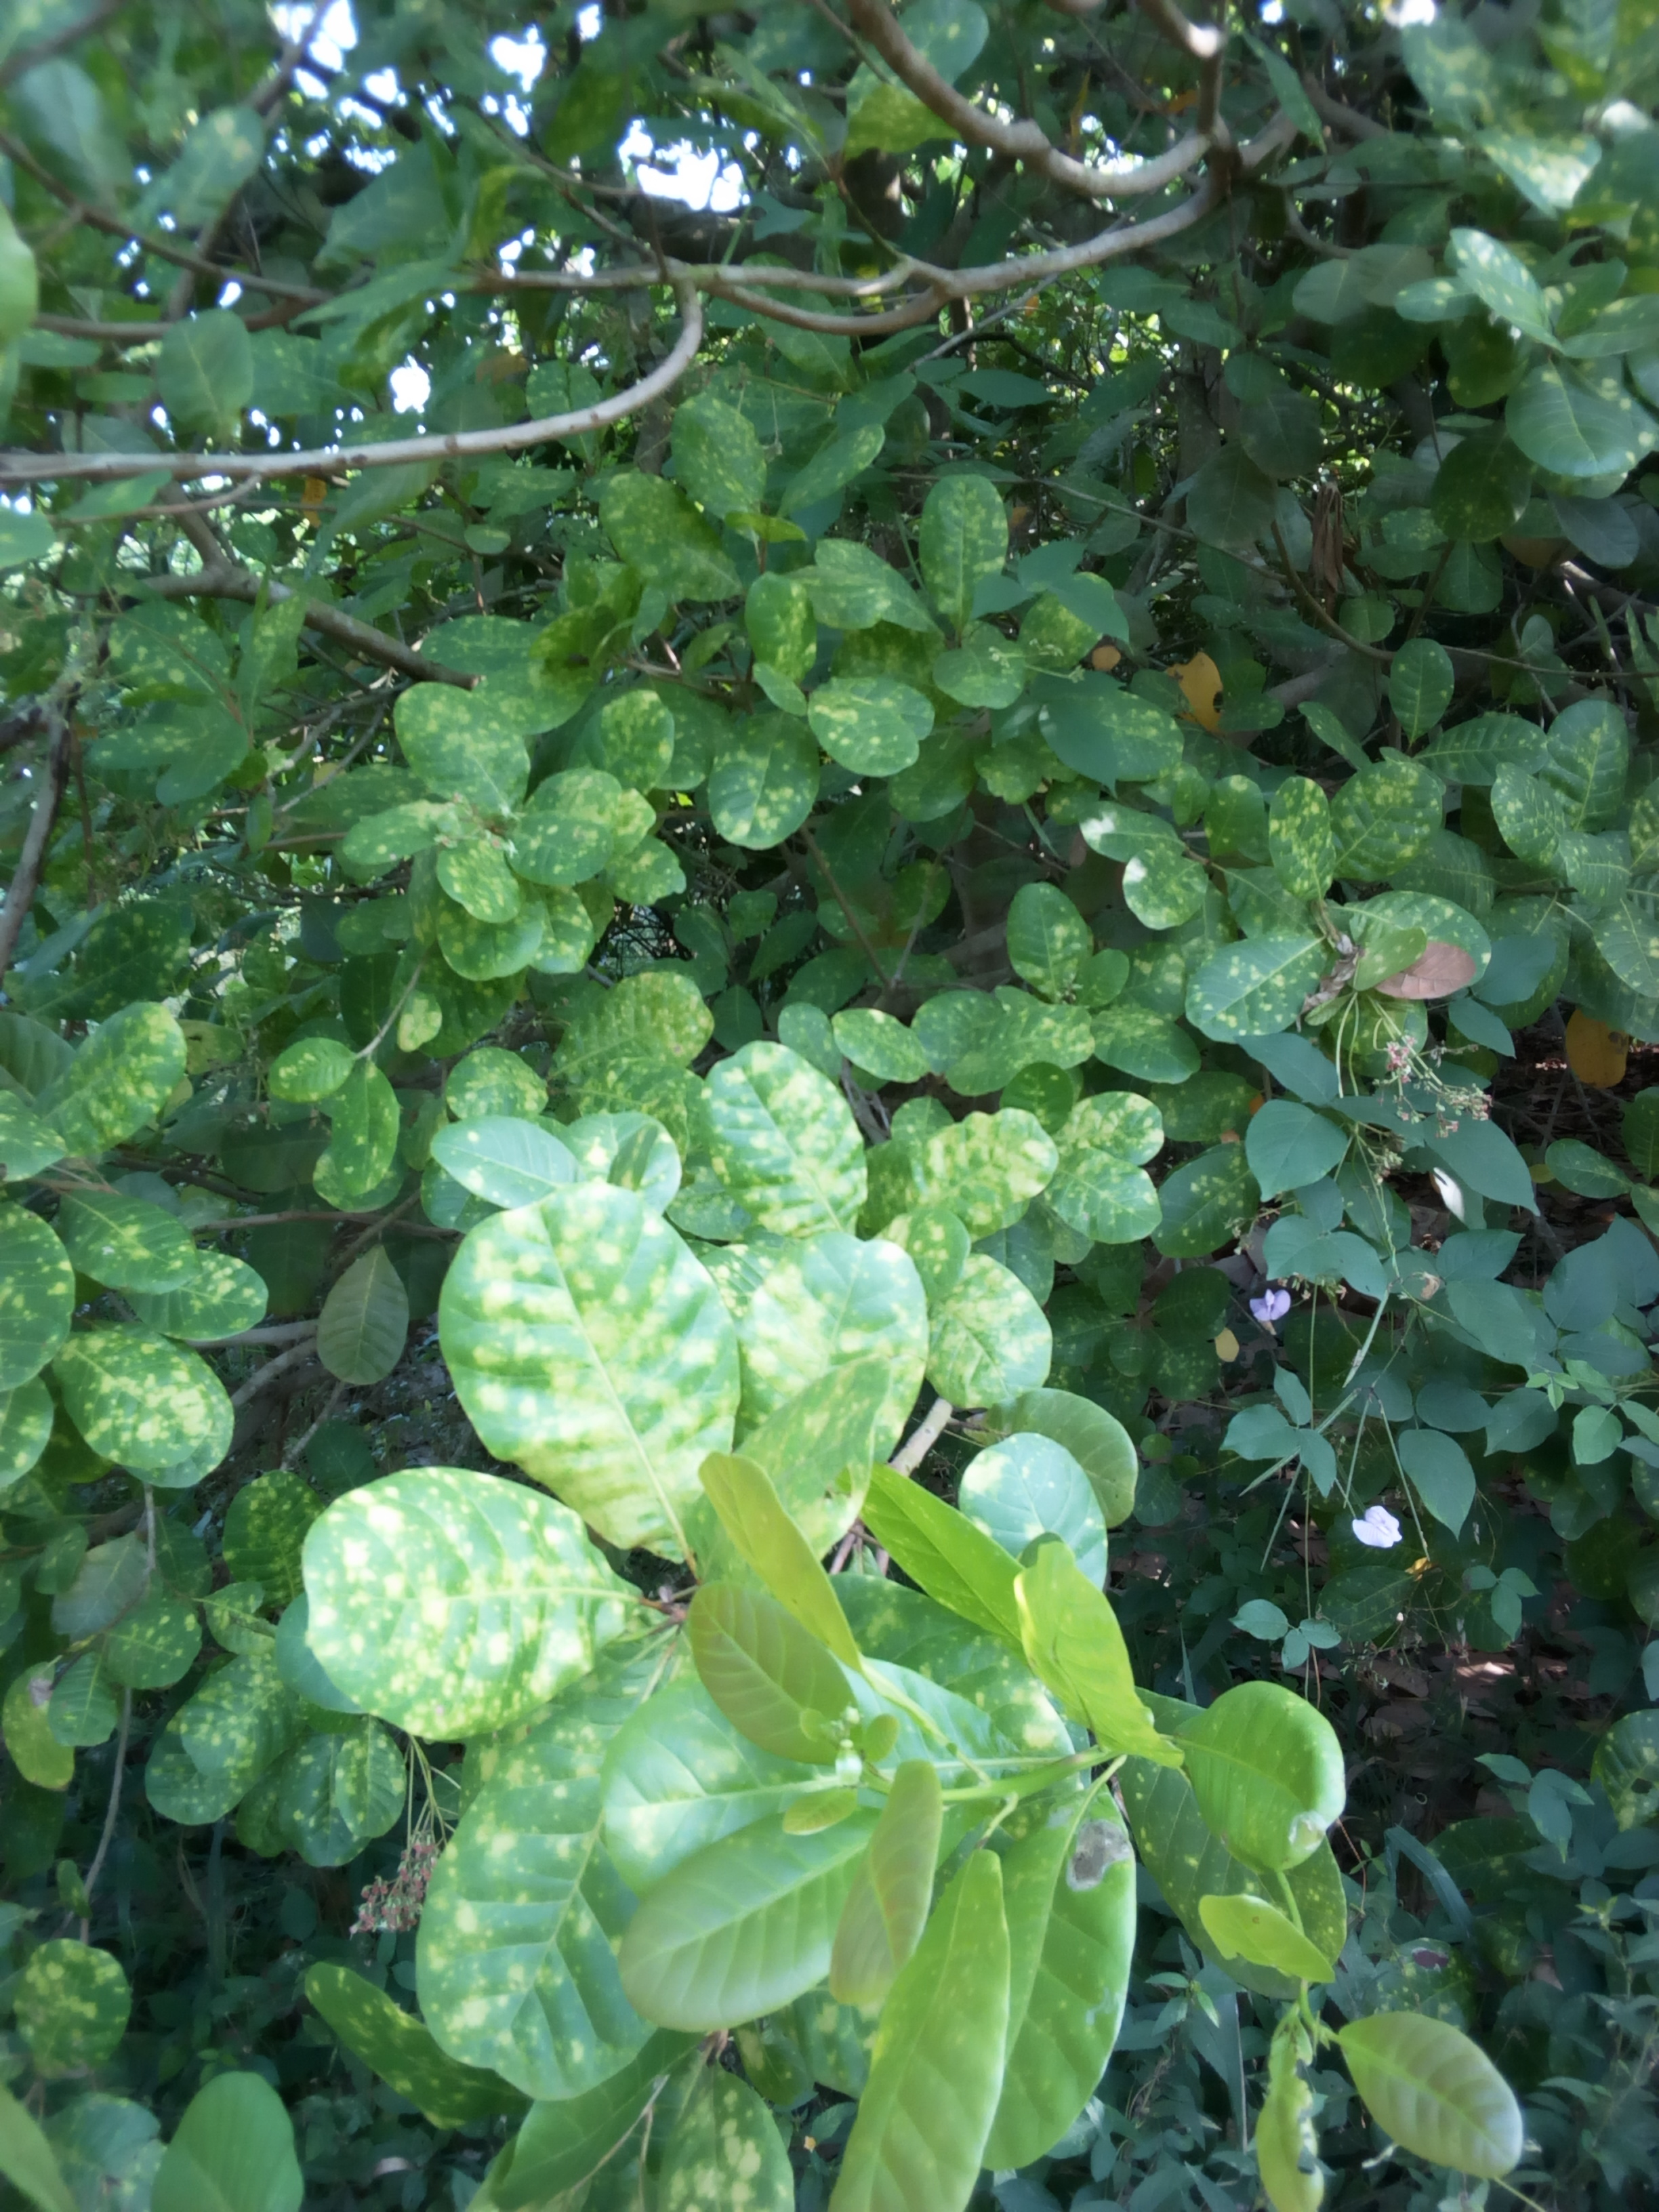Carence minérale: (396, 1644, 798, 2106), (432, 1188, 775, 1557), (270, 1454, 708, 1743), (741, 1214, 962, 1554), (694, 1024, 920, 1245), (1162, 916, 1396, 1066), (54, 995, 240, 1170), (66, 1332, 247, 1500), (389, 665, 549, 826), (1317, 880, 1511, 1001), (1060, 1089, 1182, 1264), (1220, 766, 1358, 909), (664, 388, 782, 540), (798, 669, 951, 777), (999, 873, 1107, 1008), (125, 1245, 270, 1346), (0, 1214, 87, 1378)
